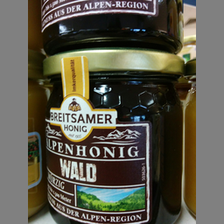honey: (41, 49, 186, 224)
